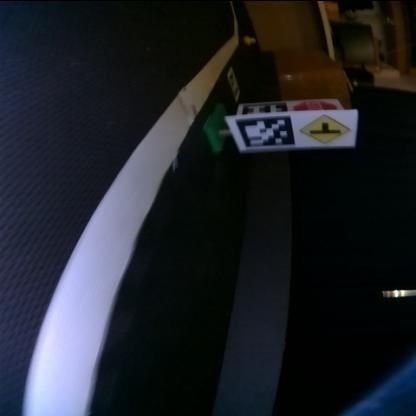Duckie: (247, 33, 256, 42)
Intersection sign: (300, 114, 351, 143)
QR code: (237, 115, 294, 145), (229, 65, 240, 101)
Stop sign: (294, 98, 339, 108)
